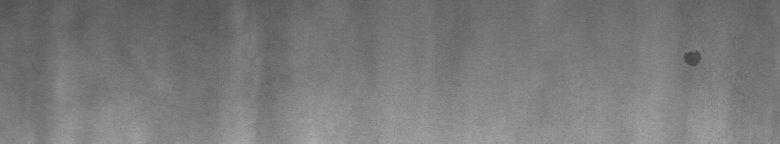fi: (680, 44, 704, 72)
